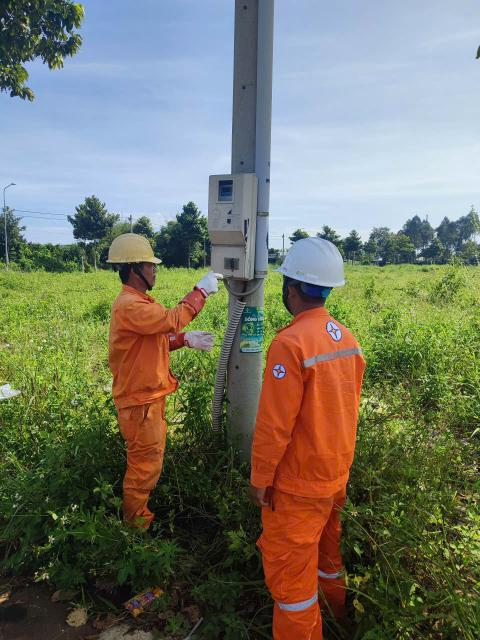gloves: (158, 325, 223, 355), (191, 269, 224, 319)
helmet: (278, 232, 348, 301), (104, 232, 182, 283)
